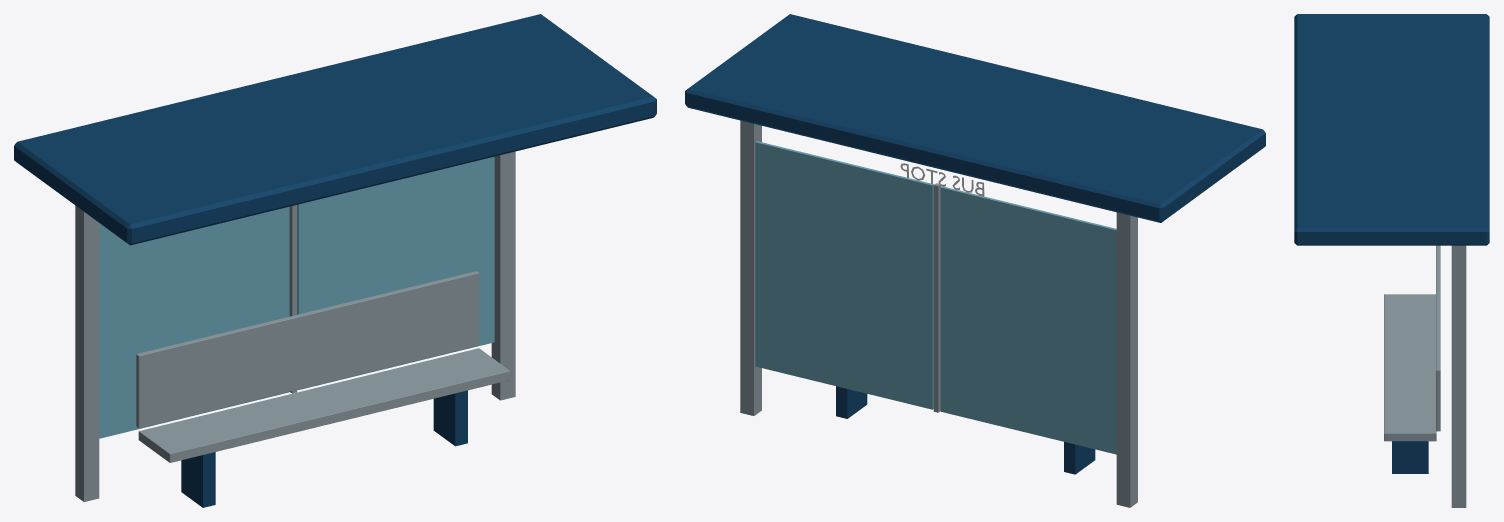
File: bus_shelter.glb
3 renders of one model, left to right at view 1: azimuth 30°, elevation 25°; view 2: azimuth 150°, elevation 25°; view 3: azimuth 270°, elevation 25°, orthographic. The views are drawn at different scales.
Visible parts, largest first — view 1: roof, metal, glass, paint; view 2: glass, roof, metal, paint; view 3: roof, metal, paint.
Boxes of the visible parts, left/top/right/bottom form: roof: left=14, top=14, right=656, bottom=245; metal: left=75, top=151, right=515, bottom=501; glass: left=99, top=156, right=494, bottom=438; paint: left=181, top=390, right=467, bottom=507; glass: left=755, top=141, right=1116, bottom=454; roof: left=685, top=14, right=1265, bottom=222; metal: left=740, top=120, right=1137, bottom=507; paint: left=836, top=386, right=1095, bottom=474; roof: left=1294, top=14, right=1489, bottom=245; metal: left=1384, top=245, right=1466, bottom=507; paint: left=1392, top=441, right=1428, bottom=473.
Size of the model in its own units: 4.2 by 2.7 by 1.6.
